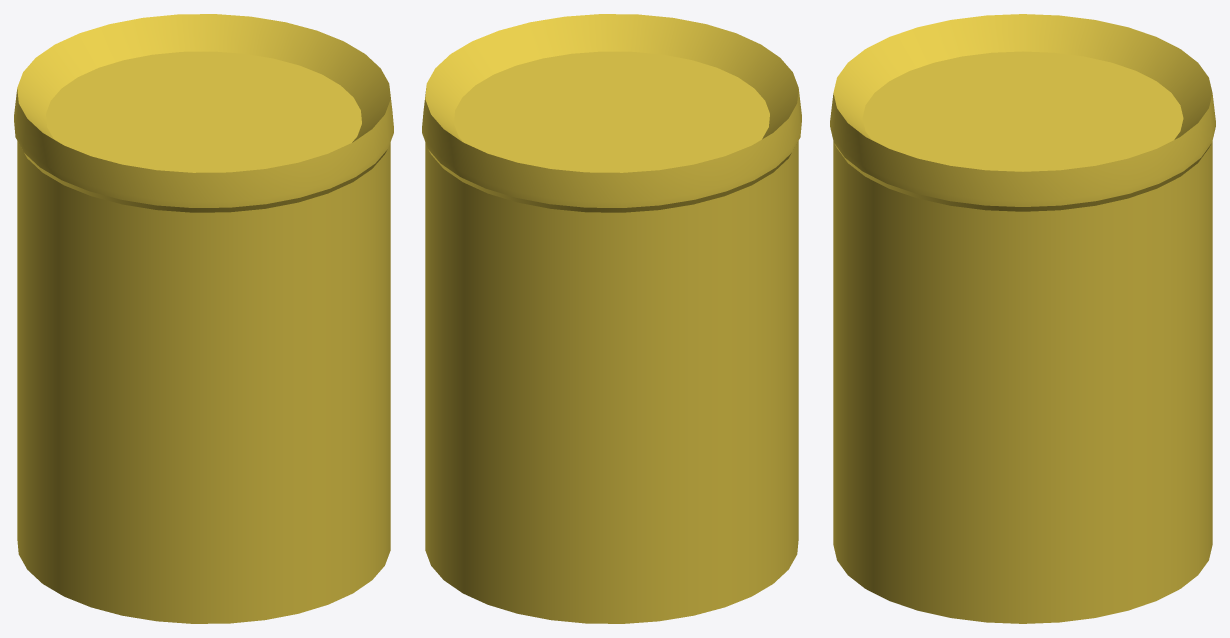
The model's file is honeyBox.fbx.
3 renders of one model, left to right at view 1: azimuth 30°, elevation 25°; view 2: azimuth 150°, elevation 25°; view 3: azimuth 270°, elevation 25°, orthographic.
Parts seen in each view (by area): view 1: Cylinder; view 2: Cylinder; view 3: Cylinder.
Part boxes in pixels (<box>): Cylinder: <box>14,14,393,623</box>; Cylinder: <box>422,14,801,623</box>; Cylinder: <box>830,14,1215,623</box>.
Size of the model in its own units: 236 by 310 by 240.
